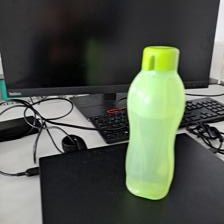bottle: (122, 41, 187, 202)
